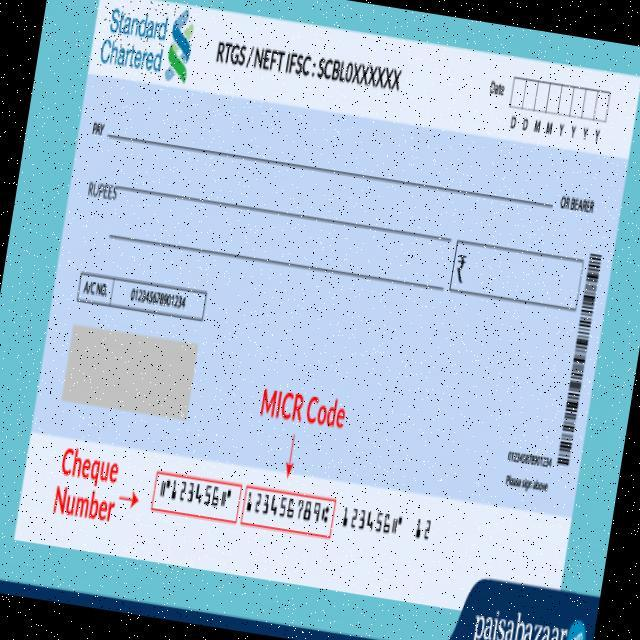Standard Chartered: (96, 0, 197, 82)
